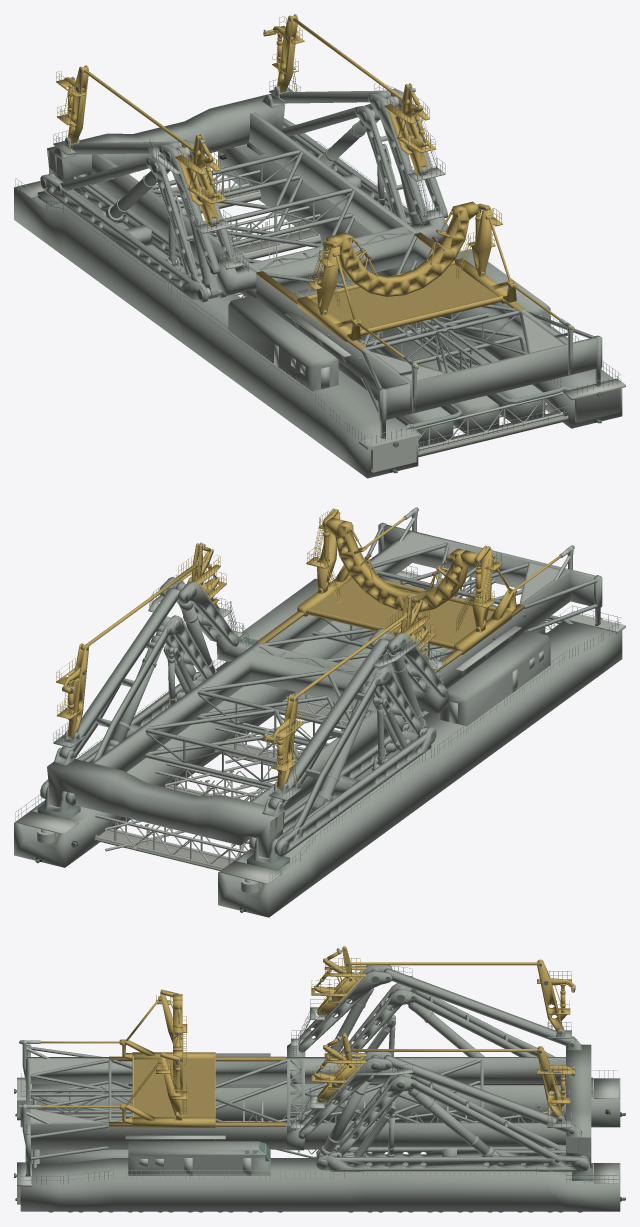
3 views of the same model, one above another, from view 1: azimuth 30°, elevation 25°; view 2: azimuth 150°, elevation 25°; view 3: azimuth 270°, elevation 25° (orthographic). The views are drawn at different scales.
Visible parts, largest first — view 1: Box186, Box24.001, Box14, Box02.002, Line04, Box187, Line01, Cylinder03.001; view 2: Box186, Box24.001, Box14, Box02.002, Line04, Box187, Cylinder03.001, Box03.002; view 3: Box186, Box24.001, Box14, Box02.002, Line04, Cylinder03.001.
Boxes of the visible parts, x1,y1,x2,y2 form: Box186: (14, 86, 622, 478); Box24.001: (56, 14, 574, 368); Box14: (16, 29, 625, 472); Box02.002: (256, 232, 524, 351); Line04: (15, 79, 621, 451); Box187: (178, 185, 568, 457); Line01: (53, 87, 572, 430); Cylinder03.001: (40, 17, 510, 324); Box186: (14, 507, 622, 917); Box24.001: (56, 508, 561, 789); Box14: (16, 507, 625, 893); Box02.002: (256, 579, 524, 672); Line04: (15, 543, 621, 883); Box187: (94, 632, 546, 870); Cylinder03.001: (70, 510, 516, 853); Box03.002: (37, 758, 374, 870); Box186: (20, 965, 620, 1211); Box24.001: (19, 946, 575, 1127); Box14: (17, 947, 619, 1204); Box02.002: (109, 1056, 285, 1126); Line04: (21, 949, 617, 1184); Cylinder03.001: (120, 949, 586, 1169).
Size of the model in its own units: 25.3 by 19.44 by 61.22.
